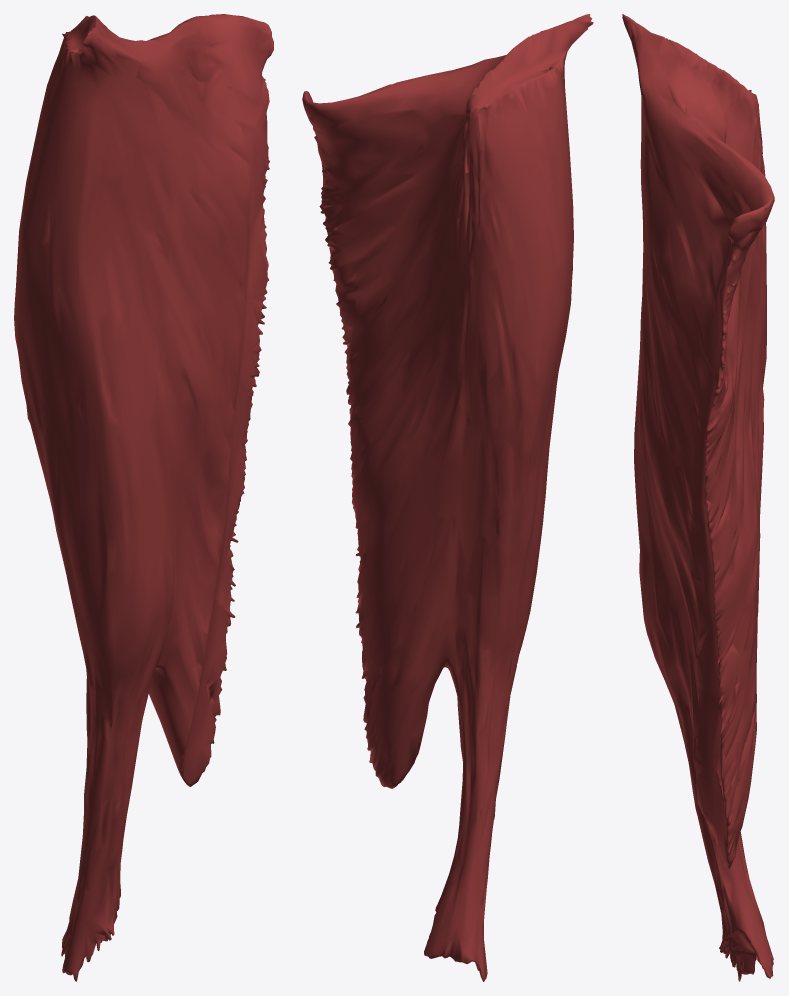
Rendered from adductor-magnus-l.glb.
3 views of the same model, side by side, from view 1: azimuth 30°, elevation 25°; view 2: azimuth 150°, elevation 25°; view 3: azimuth 270°, elevation 25° (orthographic). The views are drawn at different scales.
Visible parts, largest first — view 1: Adductor magnus.l; view 2: Adductor magnus.l; view 3: Adductor magnus.l.
Boxes of the visible parts, bbox=[...] form: Adductor magnus.l: bbox=[14, 14, 273, 981]; Adductor magnus.l: bbox=[302, 14, 593, 981]; Adductor magnus.l: bbox=[622, 14, 774, 981].
Bounding box in the file's own units: 0.0976 × 0.3578 × 0.0524.
